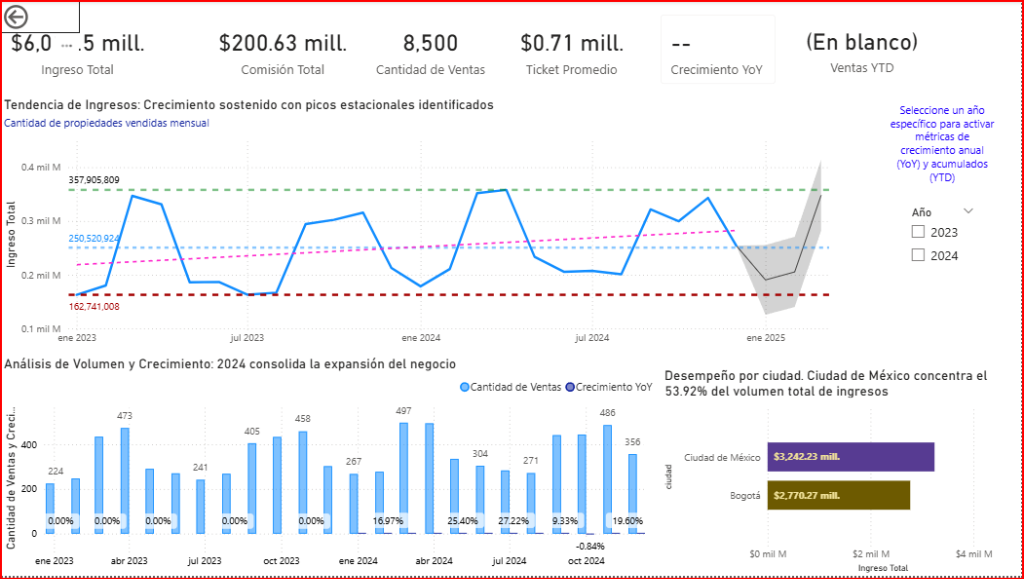

The dashboard page shown, as its layout file describes it:
{"tool":"powerbi","page":{"name":"General","canvas":[1280,720],"ordinal":0},"visuals":[{"type":"card","fields":{"Values":["_Medidas.Ingreso Total"]},"box":[0,0,194.1,122.5],"z":0},{"type":"card","fields":{"Values":["_Medidas.Cantidad de Ventas"]},"box":[441.8,0,195.4,122.5],"z":1000},{"type":"card","fields":{"Values":["_Medidas.Ticket Promedio"]},"box":[620.7,0,189.9,122.5],"z":2000},{"type":"card","fields":{"Values":["_Medidas.Comisión Total"]},"box":[265.6,0,176.2,122.5],"z":3000},{"type":"lineChart","title":"Tendencia de Ingresos: Crecimiento sostenido con picos estacionales identificados","fields":{"Y":["_Medidas.Ingreso Total"],"Category":["dim_fecha.Año-Mes (YYYY-MM)"]},"box":[0,119.7,1058.4,320.7],"z":4000},{"type":"barChart","title":"Desempeño por ciudad. Ciudad de México concentra el 53.92% del volumen total de ingresos","fields":{"Category":["hecho_ventas_propiedades.ciudad"],"Y":["_Medidas.Ingreso Total"]},"box":[827.2,458.3,452.8,261.5],"z":5000},{"type":"lineClusteredColumnComboChart","title":"Análisis de Volumen y Crecimiento: 2024 consolida la expansión del negocio","fields":{"Category":["dim_fecha.Año-Mes (YYYY-MM)"],"Y":["_Medidas.Cantidad de Ventas","_Medidas_Tiempo.Crecimiento YoY"]},"box":[0,444.6,827.2,275.3],"z":6000},{"type":"actionButton","box":[0,0,100,40],"z":7000},{"type":"cardVisual","fields":{"Data":["_Medidas_Tiempo.Crecimiento YoY"]},"box":[810.7,0,178.9,121.1],"z":8000},{"type":"slicer","fields":{"Values":["dim_fecha.Año"]},"box":[1128.6,251.9,103.2,93.6],"z":9000},{"type":"card","fields":{"Values":["_Medidas_Tiempo.Ventas YTD"]},"box":[978.6,0,202.3,118.4],"z":10000},{"type":"textbox","box":[1109.3,122.5,141.8,114.2],"z":13000}]}

Visuals, with their boxes on the page's 1280x720 design canvas (x1, y1, x2, y2). These are canvas units, not pixel positions in the 1024x579 screenshot, which may show the page scaled, cropped or inside an application window:
card - _Medidas.Ingreso Total: <region>0, 0, 194, 122</region>
card - _Medidas.Cantidad de Ventas: <region>442, 0, 637, 122</region>
card - _Medidas.Ticket Promedio: <region>621, 0, 811, 122</region>
card - _Medidas.Comisión Total: <region>266, 0, 442, 122</region>
"Tendencia de Ingresos: Crecimiento sostenido con picos estacionales identificados" lineChart: <region>0, 120, 1058, 440</region>
"Desempeño por ciudad. Ciudad de México concentra el 53.92% del volumen total de ingresos" barChart: <region>827, 458, 1280, 720</region>
"Análisis de Volumen y Crecimiento: 2024 consolida la expansión del negocio" lineClusteredColumnComboChart: <region>0, 445, 827, 720</region>
actionButton: <region>0, 0, 100, 40</region>
cardVisual - _Medidas_Tiempo.Crecimiento YoY: <region>811, 0, 990, 121</region>
slicer - dim_fecha.Año: <region>1129, 252, 1232, 346</region>
card - _Medidas_Tiempo.Ventas YTD: <region>979, 0, 1181, 118</region>
textbox: <region>1109, 122, 1251, 237</region>
